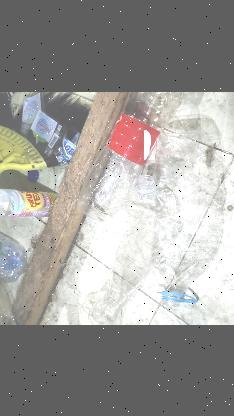Plastic Bottle: (76, 95, 234, 309), (51, 91, 190, 234), (0, 220, 34, 296), (0, 186, 56, 215)
